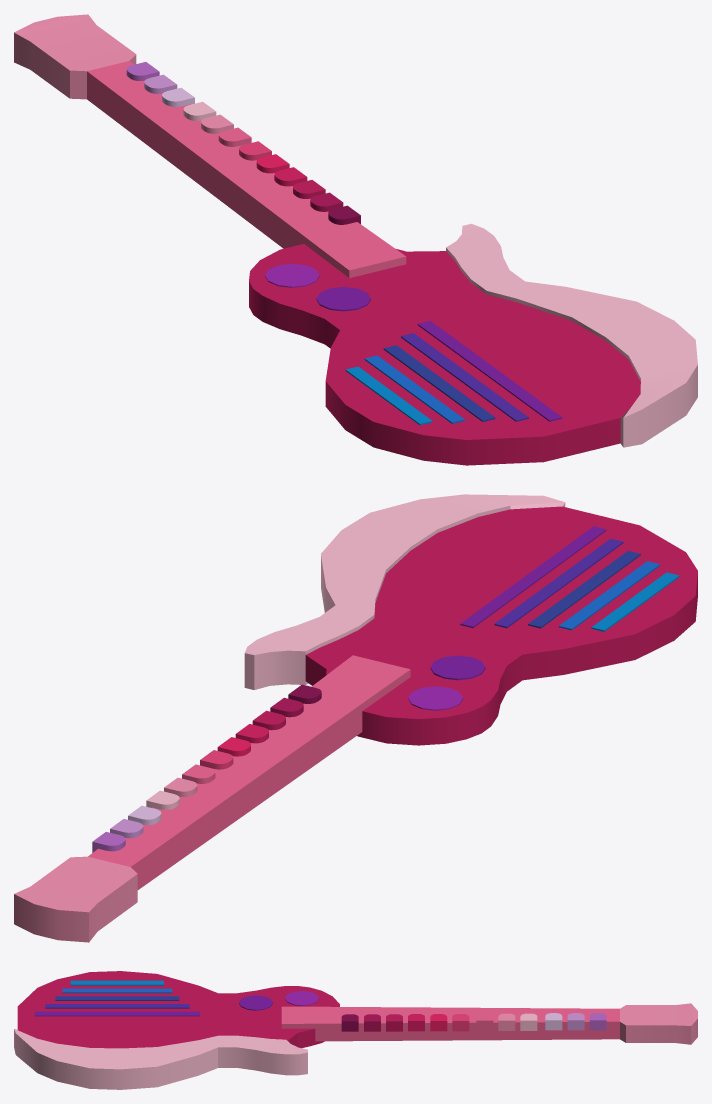
The model's file is Guitar_2.fbx.
3 views of the same model, one above another, from view 1: azimuth 30°, elevation 25°; view 2: azimuth 150°, elevation 25°; view 3: azimuth 270°, elevation 25° (orthographic). The views are drawn at different scales.
Parts seen in each view (by area): view 1: Guitar_2; view 2: Guitar_2; view 3: Guitar_2.
Boxes of the visible parts, <box> form: Guitar_2: <box>14,14,697,465</box>; Guitar_2: <box>14,494,697,942</box>; Guitar_2: <box>14,971,697,1089</box>.
Bounding box in the file's own units: 35.32 × 4.47 × 101.
1 material, 1 textured.
